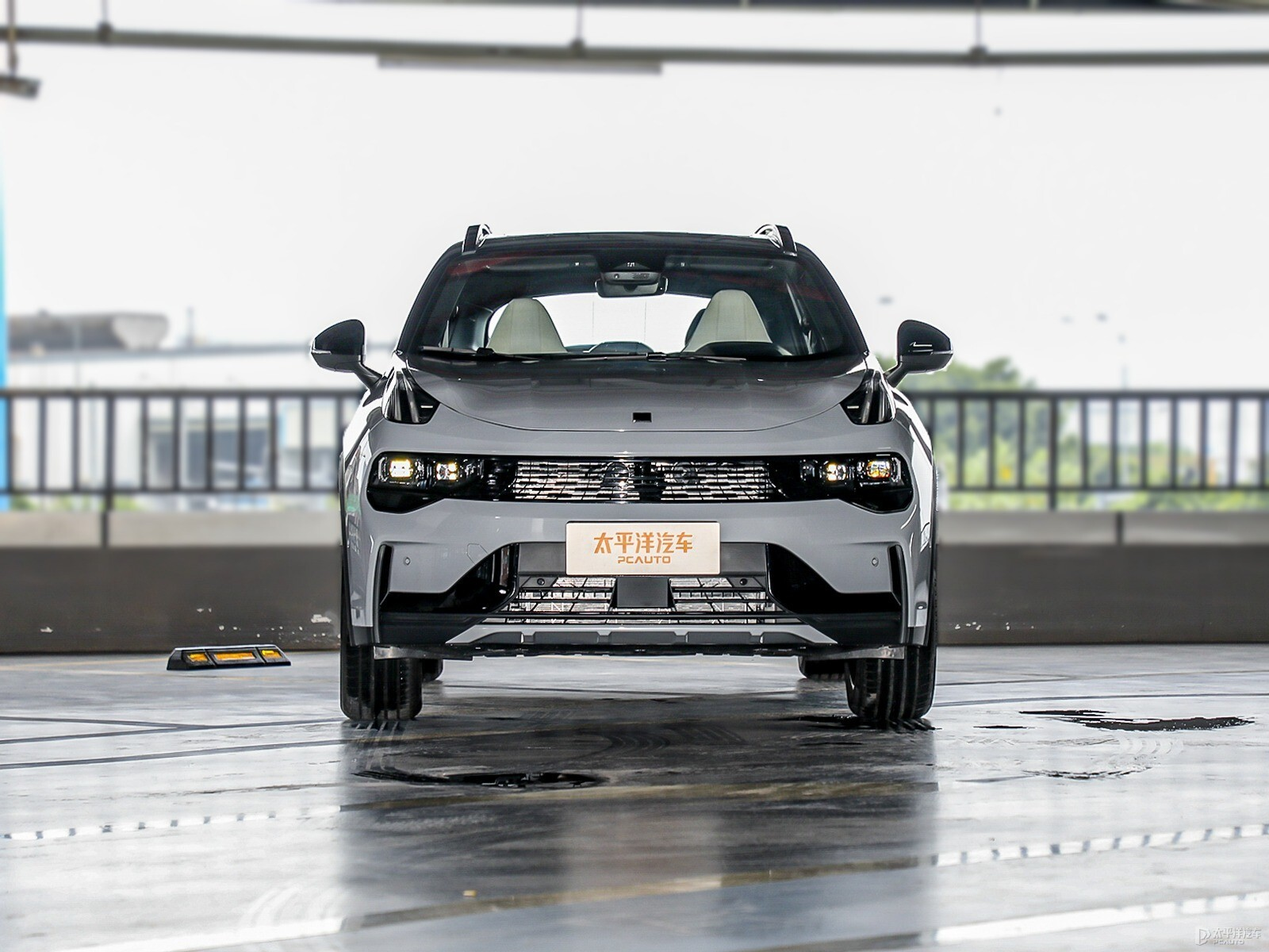LINK&CO: (632, 412, 652, 422)
